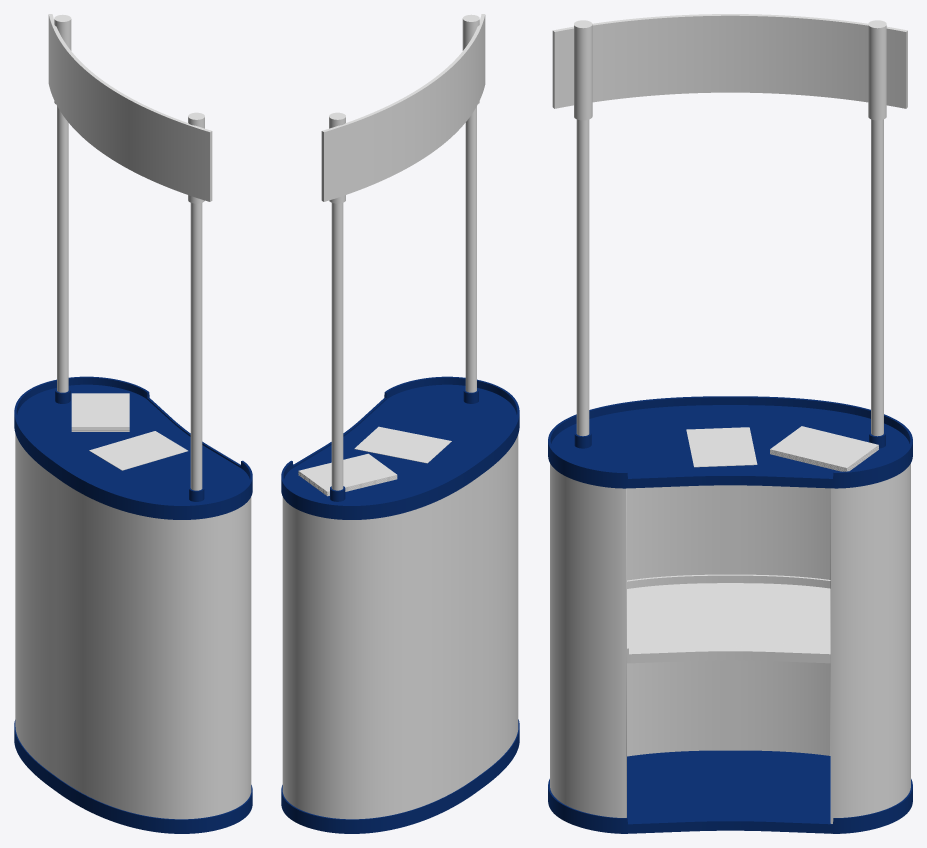
File: stand.FBX
3 renders of one model, left to right at view 1: azimuth 30°, elevation 25°; view 2: azimuth 150°, elevation 25°; view 3: azimuth 270°, elevation 25°, orthographic. The views are drawn at different scales.
Parts seen in each view (by area): view 1: Shape002, Shape1, Box091, Shape003, Cylinder006, Cylinder005, Box068, Box067; view 2: Shape002, Shape1, Box091, Shape003, Cylinder005, Cylinder006, Box068, Box067; view 3: Shape002, Box091, Shape1, Shape003, Shape004, Cylinder006, Cylinder005, Box067, Box068, Cylinder008, Cylinder007.
Boxes of the visible parts, left/top/right/bottom form: Shape002: left=15, top=434, right=251, bottom=819; Shape1: left=14, top=376, right=252, bottom=519; Box091: left=48, top=14, right=212, bottom=201; Shape003: left=14, top=720, right=252, bottom=833; Cylinder006: left=190, top=203, right=202, bottom=490; Cylinder005: left=57, top=106, right=68, bottom=392; Box068: left=89, top=431, right=187, bottom=470; Box067: left=71, top=393, right=129, bottom=427; Shape002: left=282, top=435, right=518, bottom=819; Shape1: left=281, top=376, right=519, bottom=519; Box091: left=321, top=14, right=485, bottom=201; Shape003: left=281, top=719, right=519, bottom=833; Cylinder005: left=331, top=203, right=343, bottom=490; Cylinder006: left=465, top=106, right=476, bottom=392; Box068: left=354, top=426, right=451, bottom=463; Box067: left=298, top=453, right=396, bottom=491; Shape002: left=550, top=463, right=910, bottom=833; Box091: left=552, top=14, right=907, bottom=108; Shape1: left=548, top=396, right=912, bottom=488; Shape003: left=548, top=750, right=912, bottom=833; Shape004: left=627, top=574, right=830, bottom=663; Cylinder006: left=576, top=119, right=589, bottom=436; Cylinder005: left=871, top=119, right=883, bottom=436; Box067: left=770, top=426, right=878, bottom=468; Box068: left=686, top=427, right=757, bottom=467; Cylinder008: left=574, top=20, right=592, bottom=120; Cylinder007: left=868, top=20, right=886, bottom=120.
Bounding box in the file's own units: 16.88 × 79.34 × 33.88.
